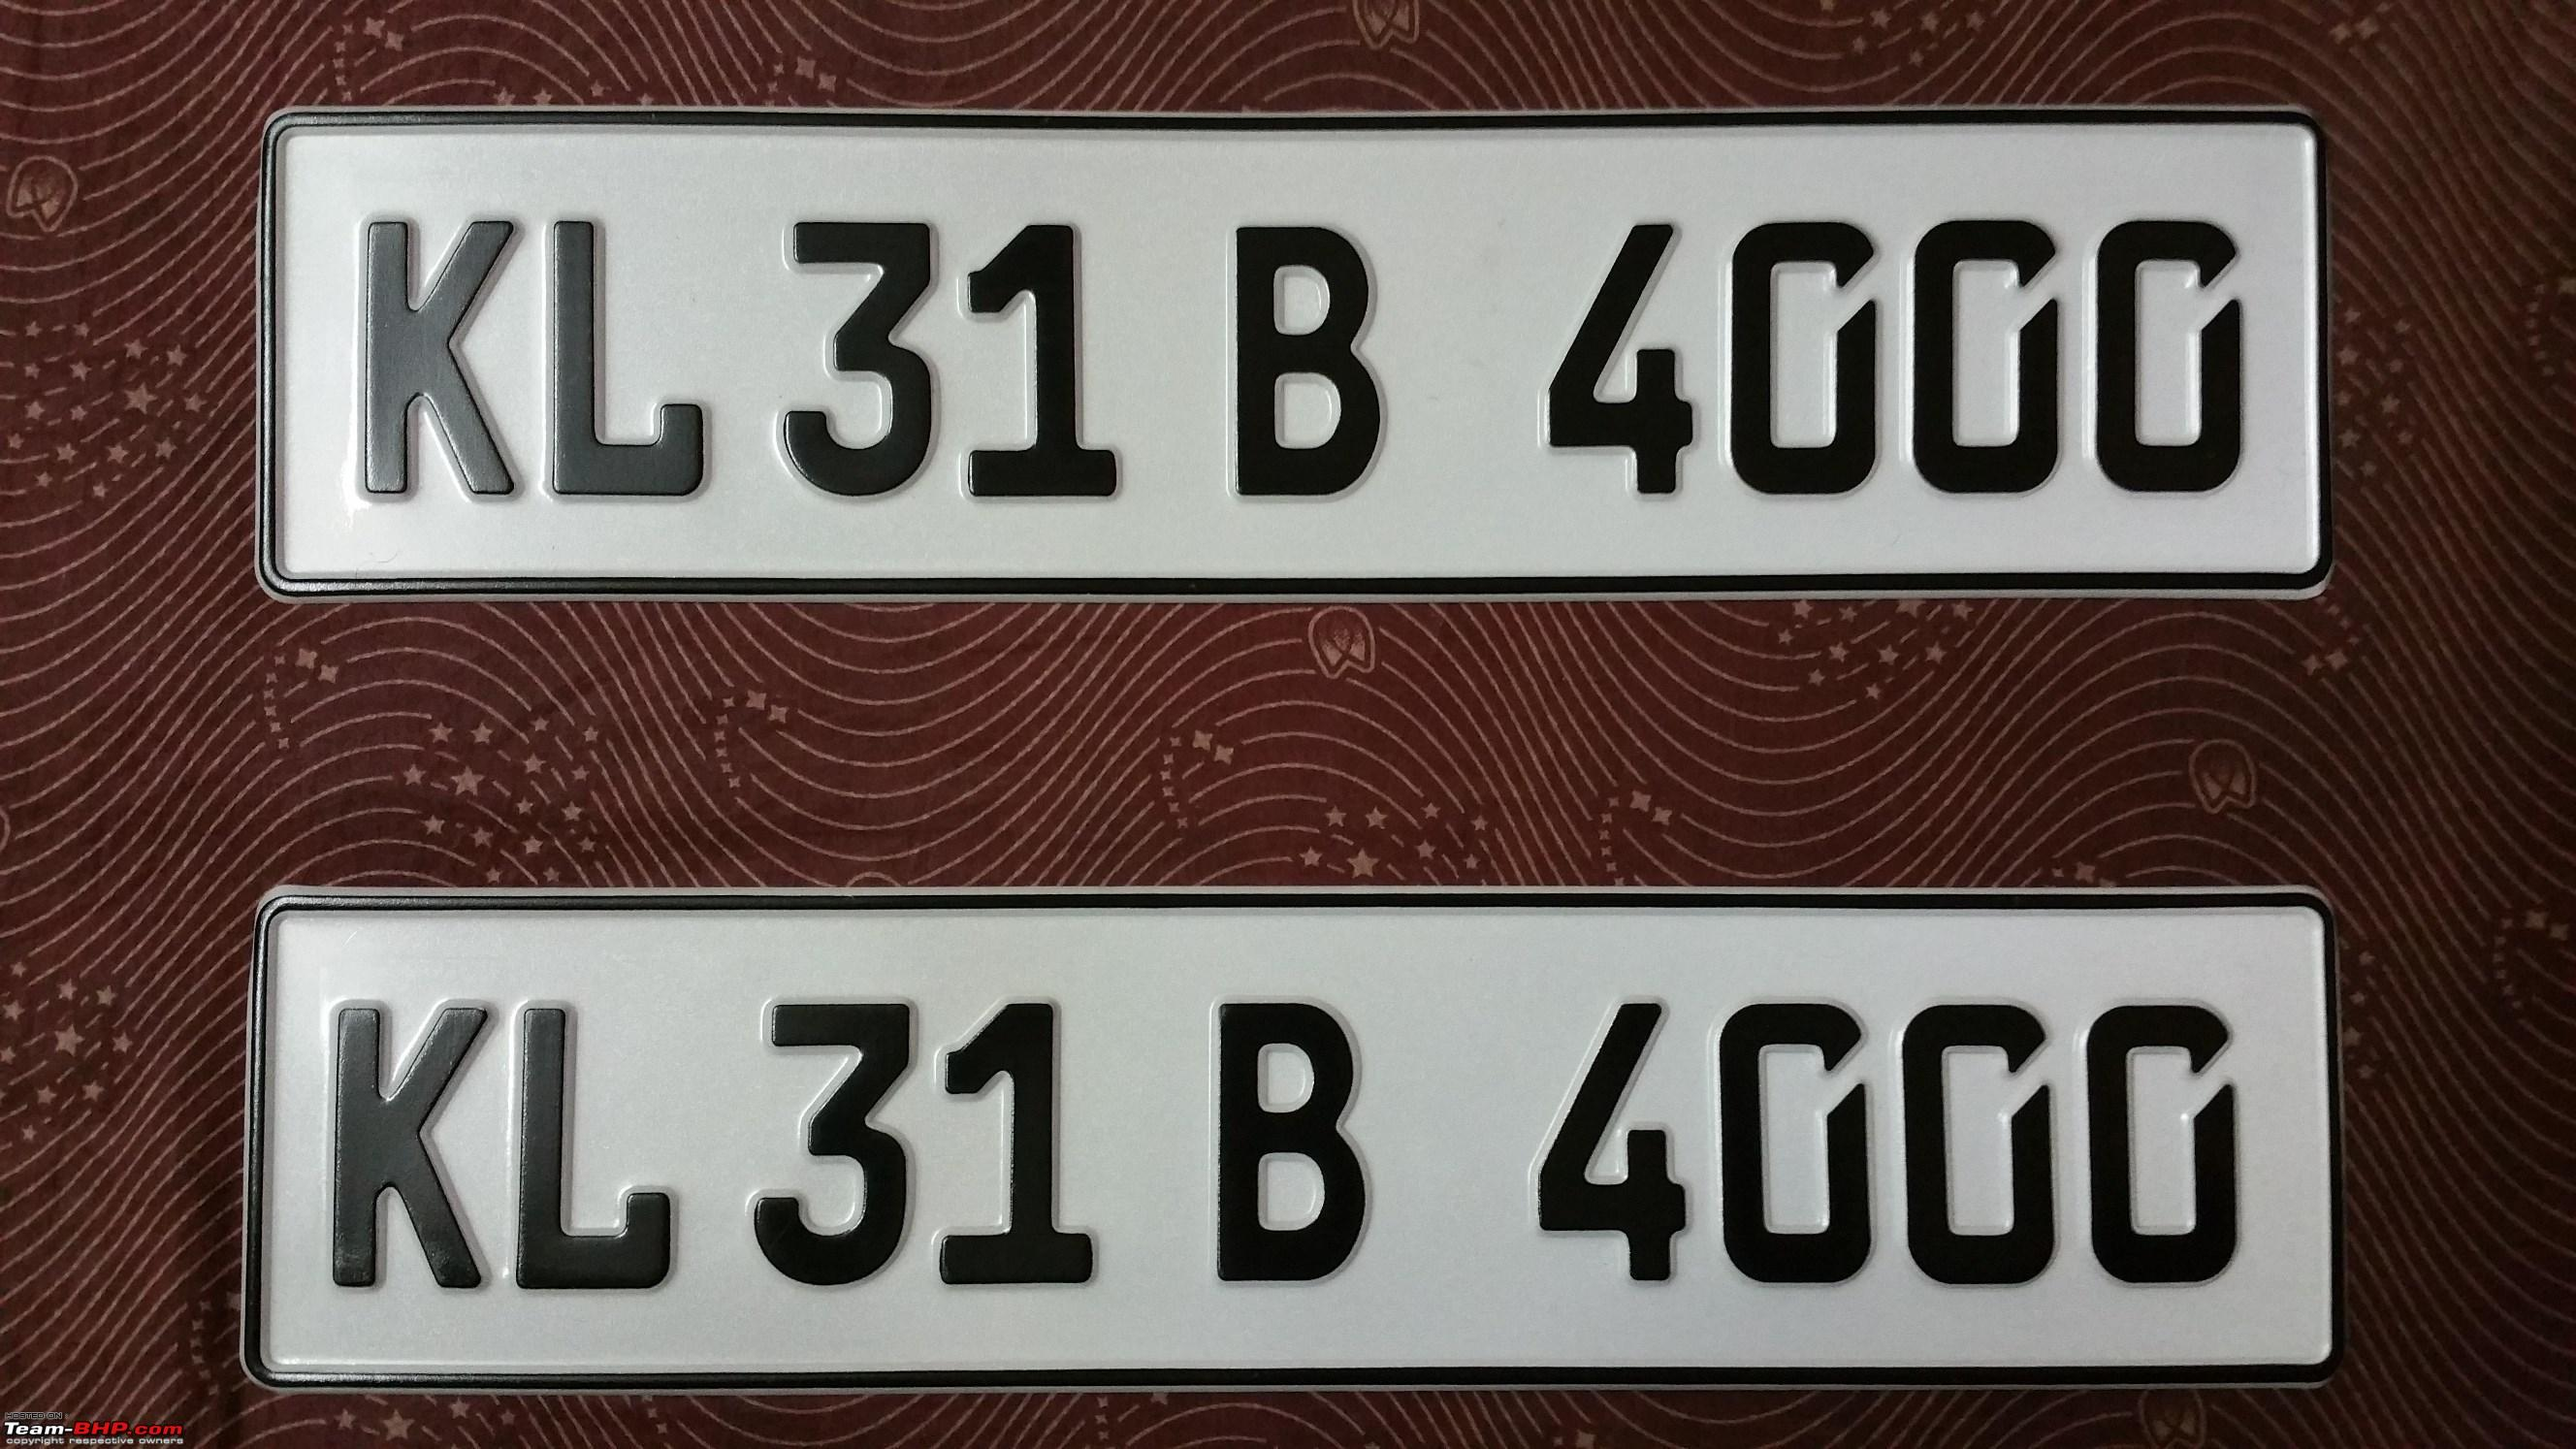number_plate: (287, 119, 2349, 596)
